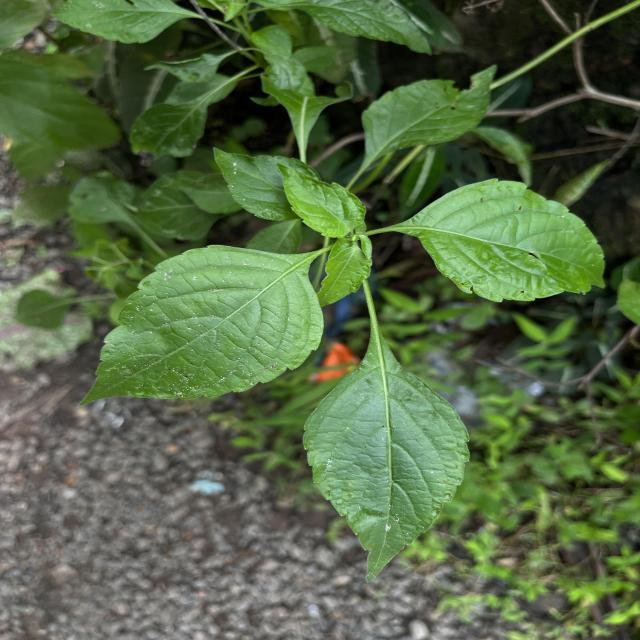Ocimum gratissimum: (298, 322, 474, 587), (74, 242, 327, 410), (380, 175, 614, 305), (357, 62, 502, 180), (272, 157, 370, 240)
